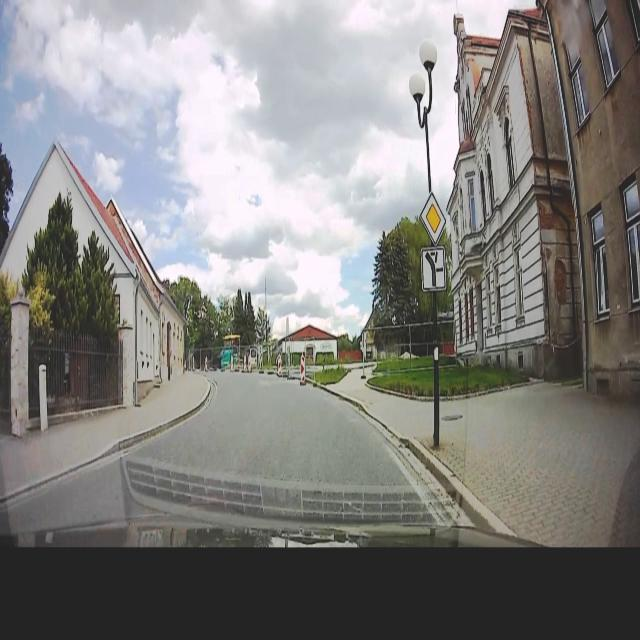Priority road: (418, 187, 448, 248)
